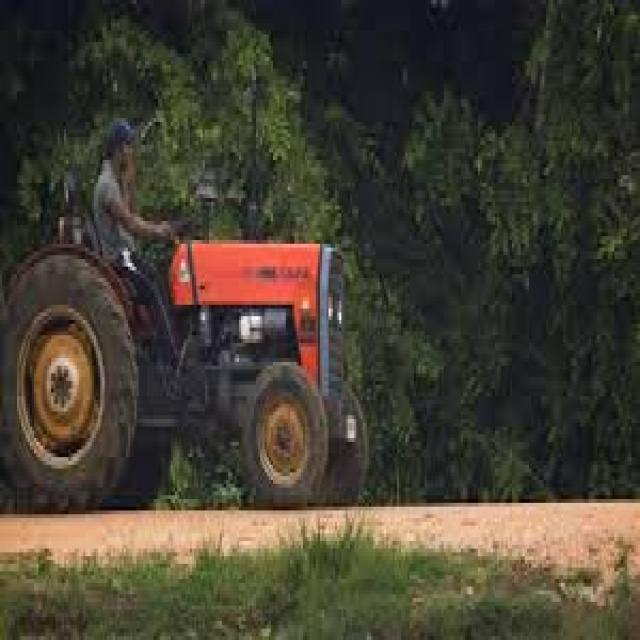person: (94, 122, 173, 354)
tractor: (0, 244, 367, 503)
